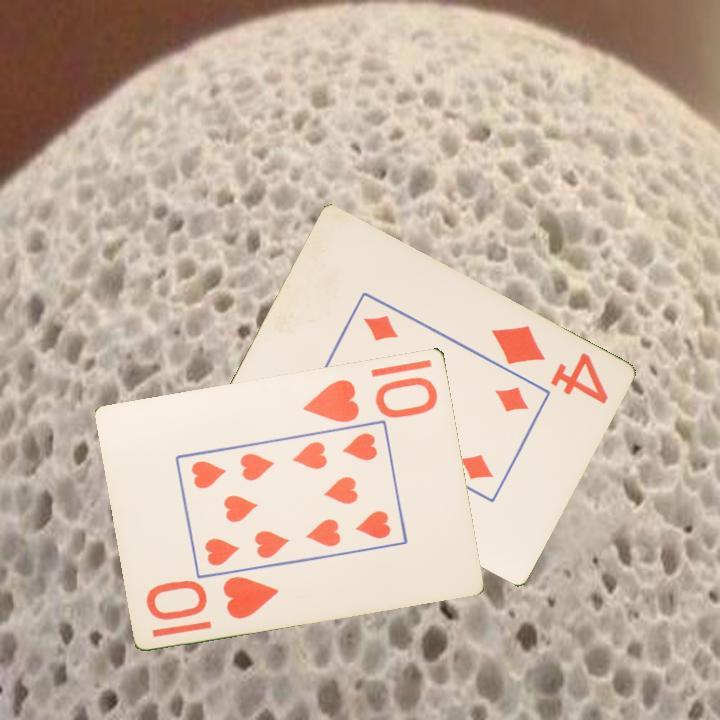10h: (299, 373, 441, 425), (142, 572, 283, 623)
4d: (486, 321, 611, 408)
